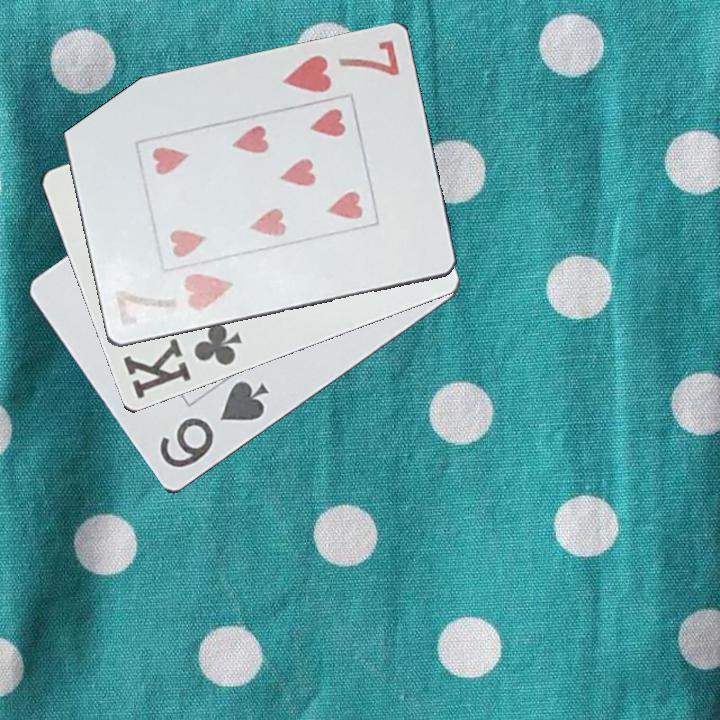6s: (155, 377, 273, 472)
7h: (110, 270, 236, 331), (279, 37, 404, 96)
Kc: (119, 320, 245, 403)
